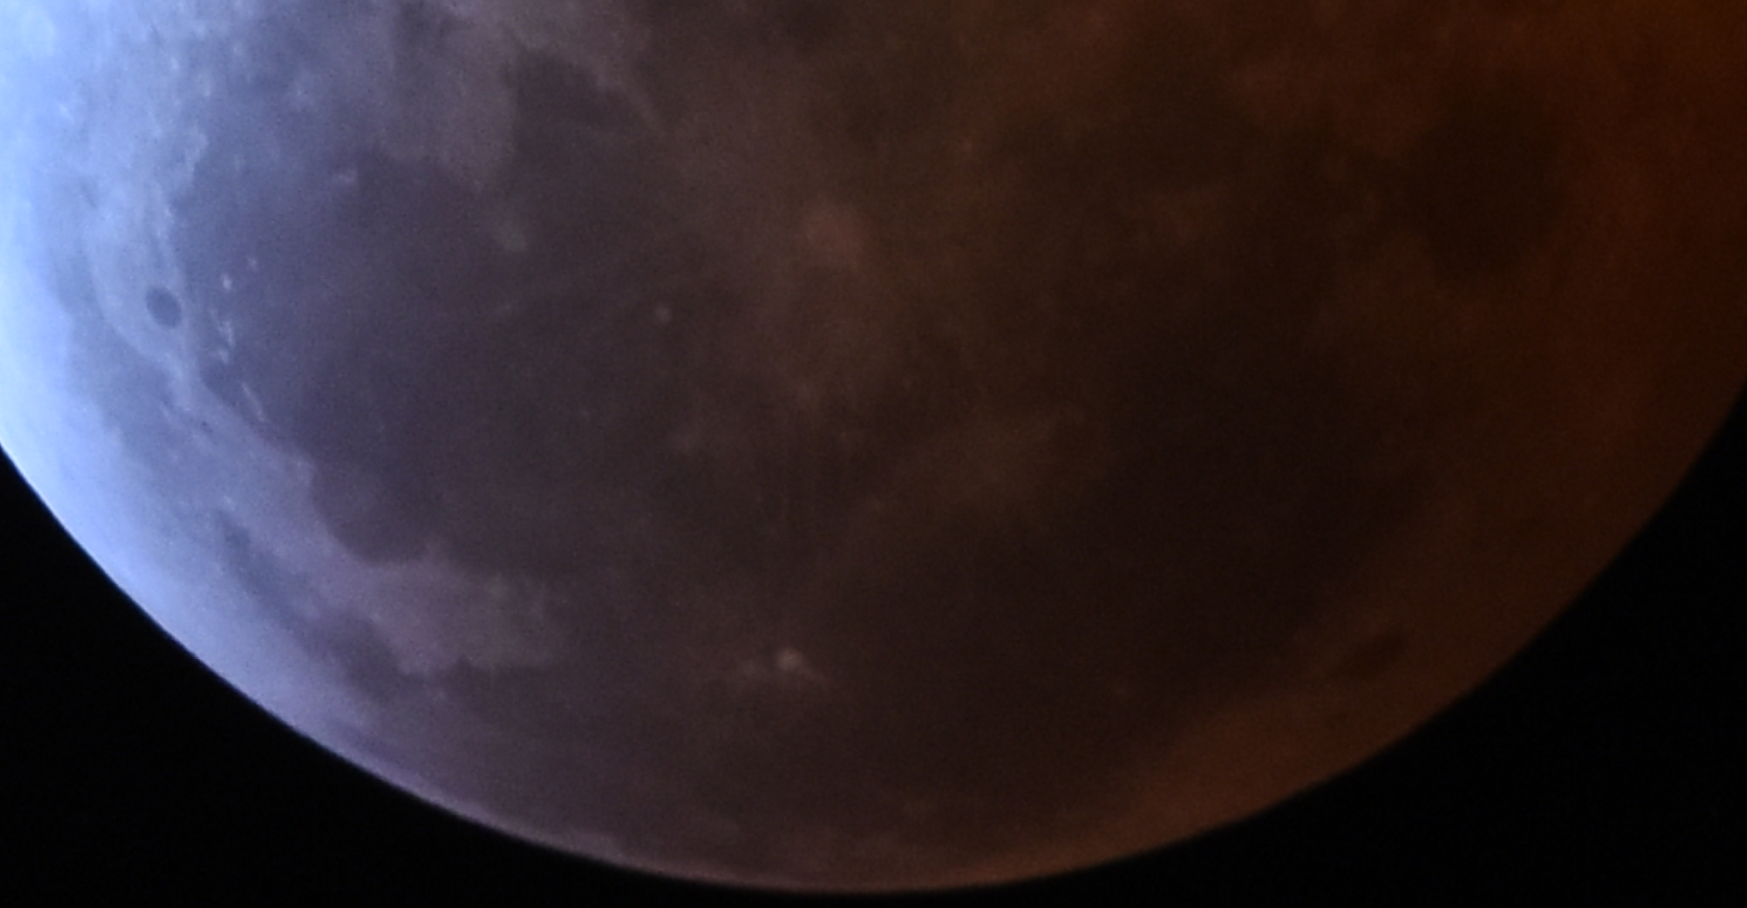crater: (768, 172, 895, 296), (102, 237, 210, 364), (1299, 604, 1420, 702), (767, 628, 833, 695), (3, 3, 70, 67), (629, 289, 683, 341), (237, 243, 285, 293), (856, 485, 909, 528), (210, 481, 258, 518), (206, 265, 248, 303), (357, 604, 397, 637)
